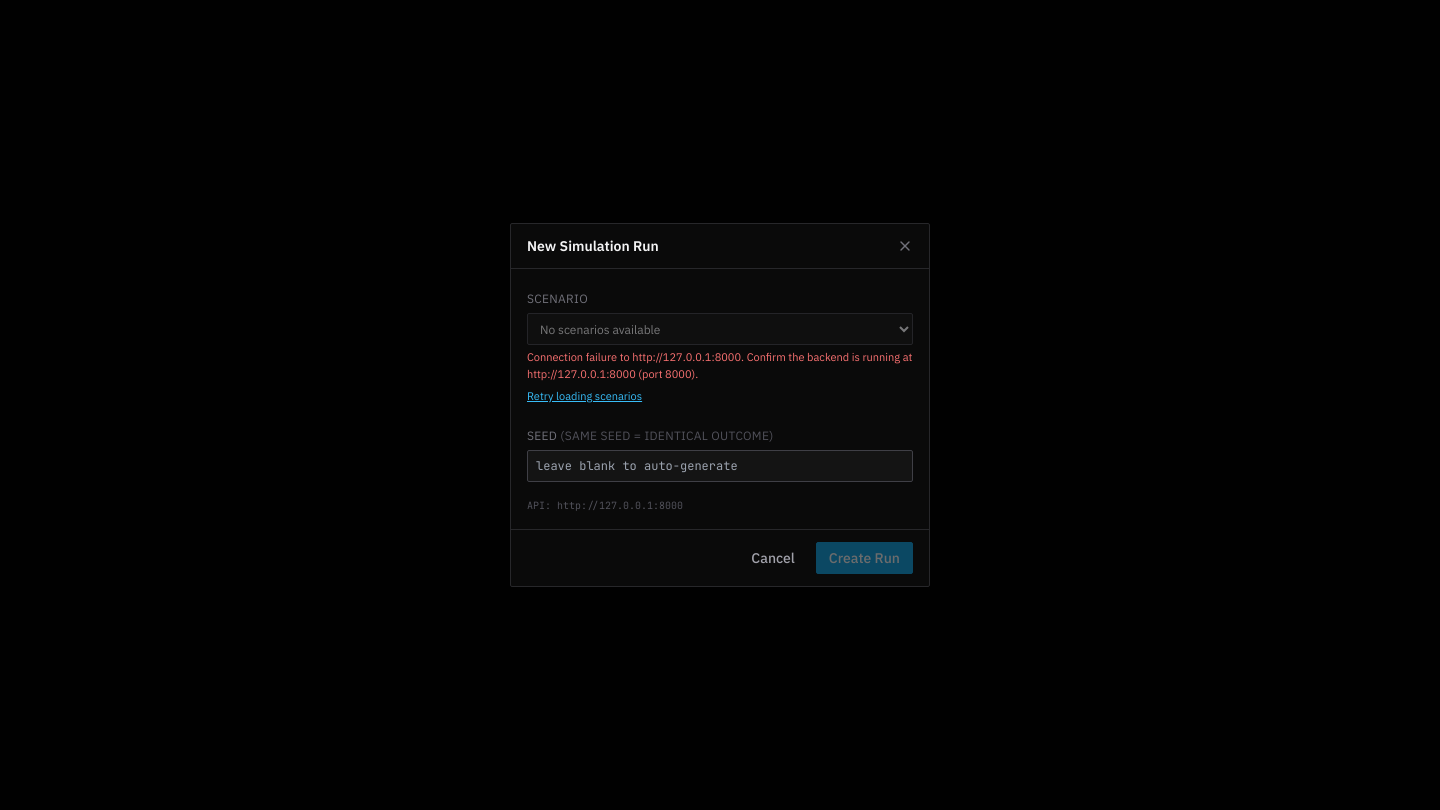
Test: NewRunModal scenario loading › shows load error and Retry invokes another request
Expected: the element with test id "scenario-load-error" is shown, [527, 349, 913, 406]
Expected: the button with test id "create-run-btn" is disabled, [816, 542, 913, 574]
Click the button with test id "retry-scenarios-btn".
click(585, 396)  # box [527, 388, 642, 404]
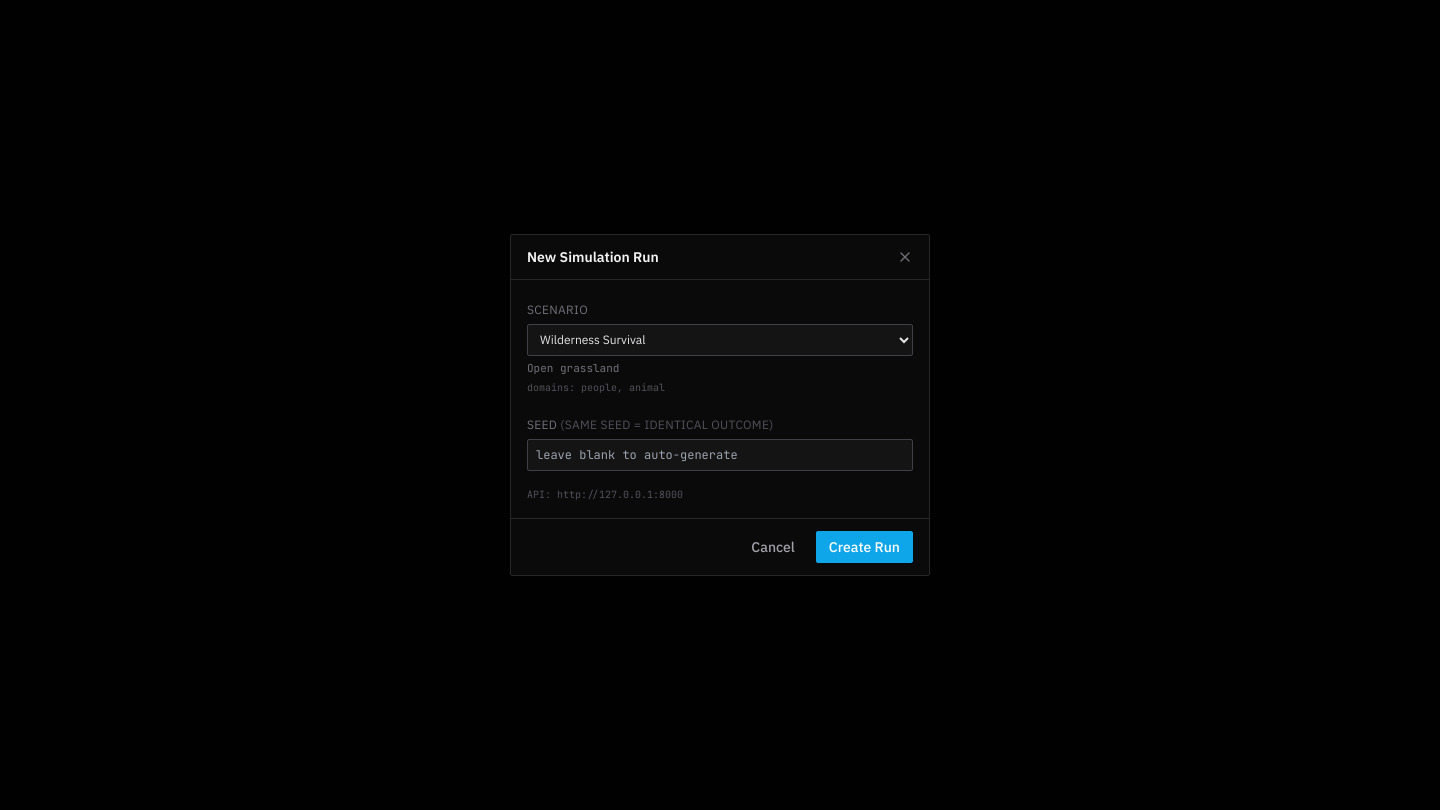
Expected: the button with test id "create-run-btn" is enabled, [816, 531, 913, 563]
